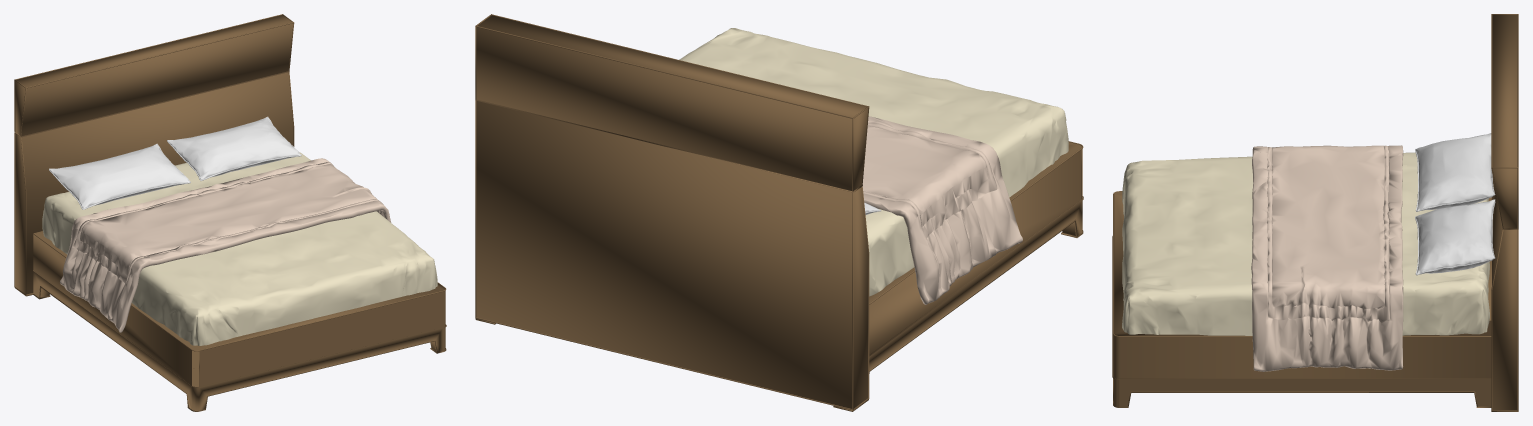
The model's file is Bed.fbx.
3 renders of one model, left to right at view 1: azimuth 30°, elevation 25°; view 2: azimuth 150°, elevation 25°; view 3: azimuth 270°, elevation 25°, orthographic. The views are drawn at different scales.
Visible parts, largest first — view 1: polySurface4, polySurface17, HLB_Milano____K_Bed_:Object0012, polySurface20, polySurface9, polySurface10; view 2: polySurface4, polySurface17, polySurface20, HLB_Milano____K_Bed_:Object0012; view 3: polySurface20, polySurface17, HLB_Milano____K_Bed_:Object0012, polySurface4, polySurface9, polySurface10.
Boxes of the visible parts, <box> form: polySurface4: <box>15,15,437,409</box>; polySurface17: <box>42,152,437,345</box>; HLB_Milano____K_Bed_:Object0012: <box>14,14,446,411</box>; polySurface20: <box>60,158,391,332</box>; polySurface9: <box>49,143,190,209</box>; polySurface10: <box>167,116,301,180</box>; polySurface4: <box>476,15,1077,408</box>; polySurface17: <box>679,28,1068,296</box>; polySurface20: <box>862,116,1022,304</box>; HLB_Milano____K_Bed_:Object0012: <box>475,14,1083,411</box>; polySurface20: <box>1251,145,1403,371</box>; polySurface17: <box>1122,152,1489,335</box>; HLB_Milano____K_Bed_:Object0012: <box>1112,14,1518,411</box>; polySurface4: <box>1113,14,1517,409</box>; polySurface9: <box>1415,133,1495,211</box>; polySurface10: <box>1415,199,1495,275</box>.
Size of the model in its own units: 2074 by 1449 by 2179.
